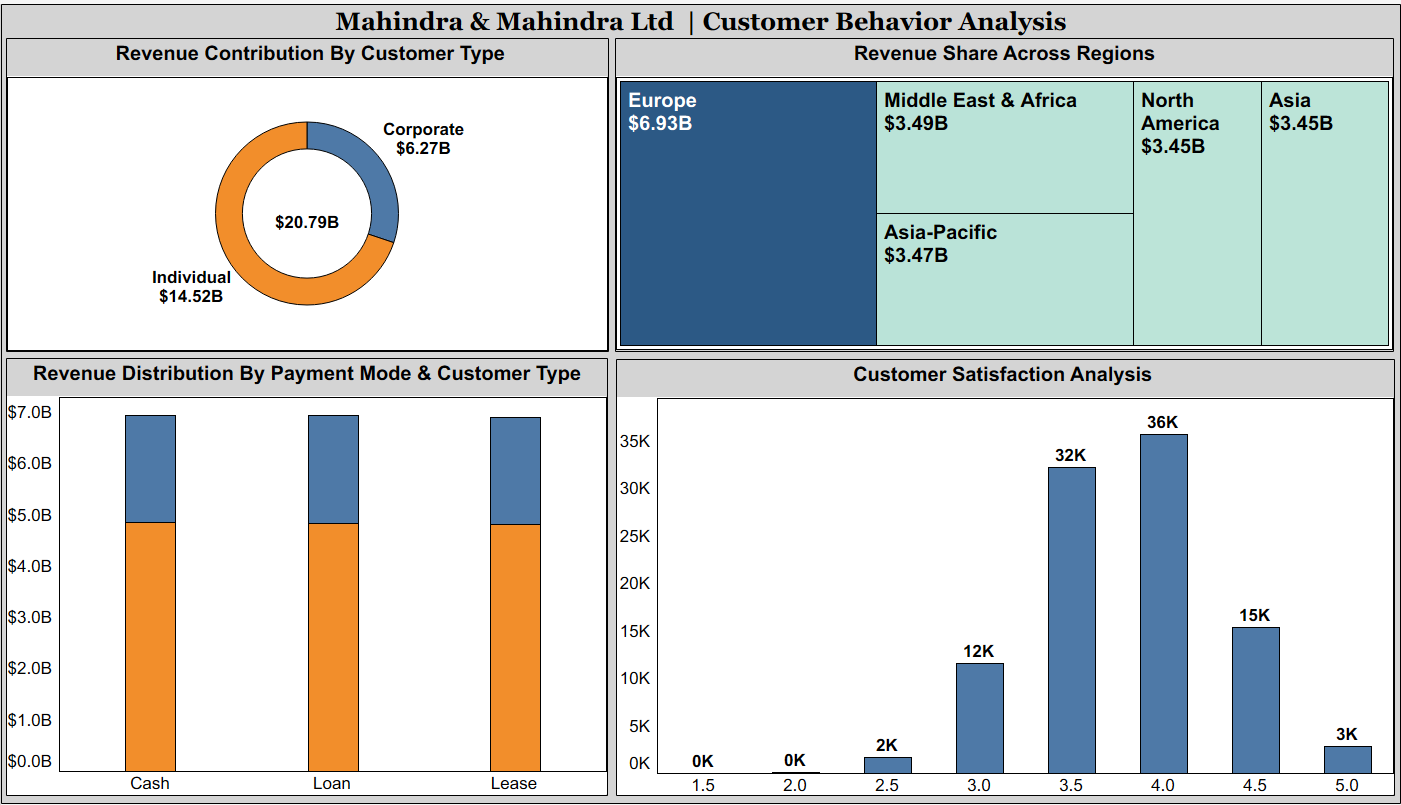

Layout of this report page (visuals, bound fields, positions):
{"tool":"tableau","page":{"name":"Customer Behavior Analysis","canvas":[1400,800],"ordinal":0},"visuals":[{"type":"text","box":[0,0,1400,35]},{"type":"worksheet","title":" Revenue Contribution By Customer Type","mark":"Pie","cols":["Calculation_0118803254390785","Calculation_0118803254390785"],"box":[5,34,603,314]},{"type":"worksheet","title":"Revenue Share Across Regions","mark":"Automatic","box":[614,34,779,314]},{"type":"worksheet","title":"Revenue Distribution By Payment Mode & Customer Type","mark":"Bar","rows":["Revenue_USD"],"cols":["Payment_Mode"],"box":[5,354,602,438]},{"type":"worksheet","title":"Customer Satisfaction Analysis ","mark":"Bar","rows":["Customer_Rating"],"cols":["Customer Rating (bin)"],"box":[615,355,779,437]}]}

Visuals, with their boxes in screenshot pixels (x1, y1, x2, y2), scaled from the page's 1400x800 canvas onto the 1401x805 screenshot:
text: [x1=0, y1=0, x2=1400, y2=35]
" Revenue Contribution By Customer Type" worksheet (Pie marks): [x1=5, y1=34, x2=608, y2=350]
"Revenue Share Across Regions" worksheet: [x1=614, y1=34, x2=1394, y2=350]
"Revenue Distribution By Payment Mode & Customer Type" worksheet (Bar marks): [x1=5, y1=356, x2=607, y2=797]
"Customer Satisfaction Analysis " worksheet (Bar marks): [x1=615, y1=357, x2=1395, y2=797]
